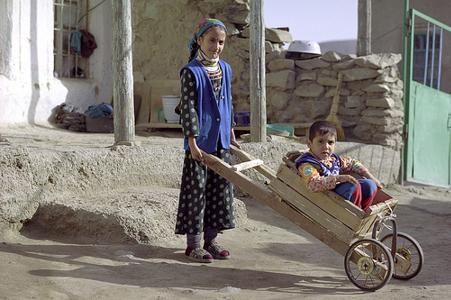person: (174, 18, 246, 264)
